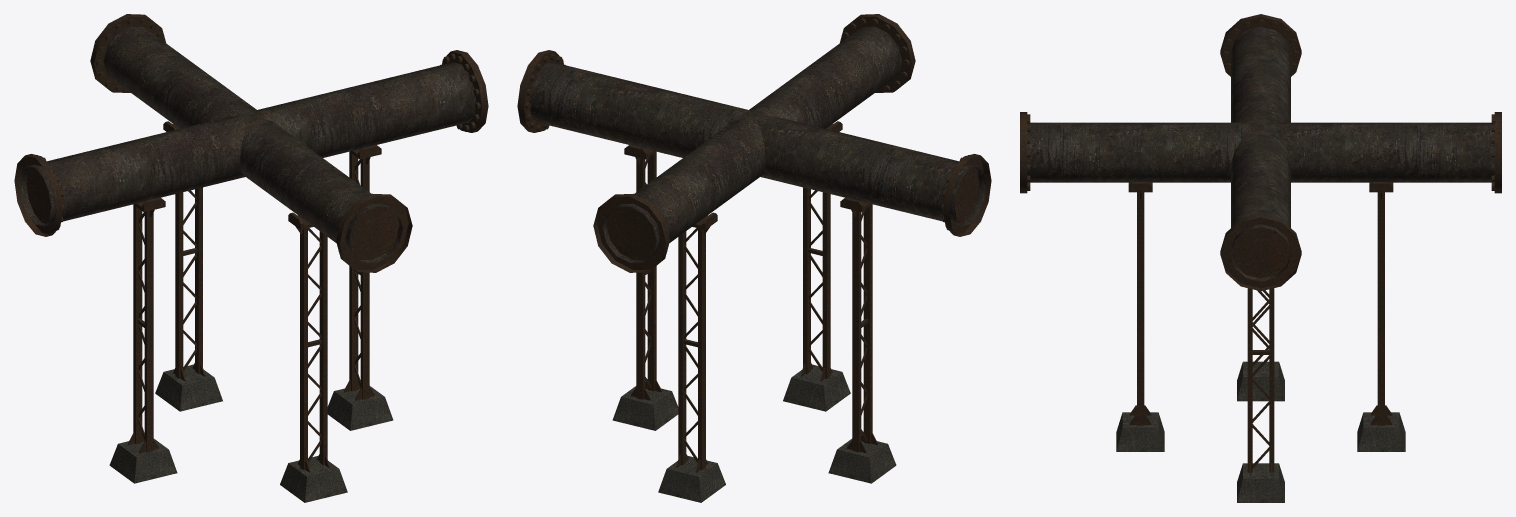
File: pipe_cx_2.glb
3 renders of one model, left to right at view 1: azimuth 30°, elevation 25°; view 2: azimuth 150°, elevation 25°; view 3: azimuth 270°, elevation 25°, orthographic. The views are drawn at different scales.
Parts seen in each view (by area): view 1: pipe_cx_2; view 2: pipe_cx_2; view 3: pipe_cx_2.
Boxes of the visible parts, <box> form: pipe_cx_2: <box>14,14,488,502</box>; pipe_cx_2: <box>517,14,991,502</box>; pipe_cx_2: <box>1020,14,1501,502</box>.
Size of the model in its own units: 4 by 2.99 by 4.
3 materials, 3 textured.
